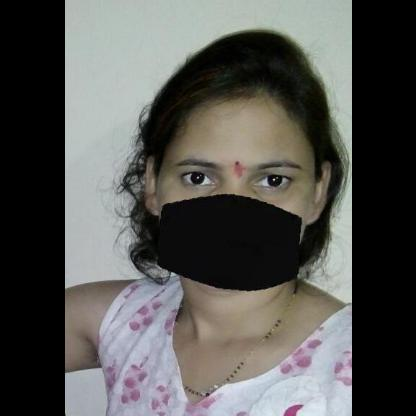Fabric/Cloth Mask: (146, 94, 310, 290)
